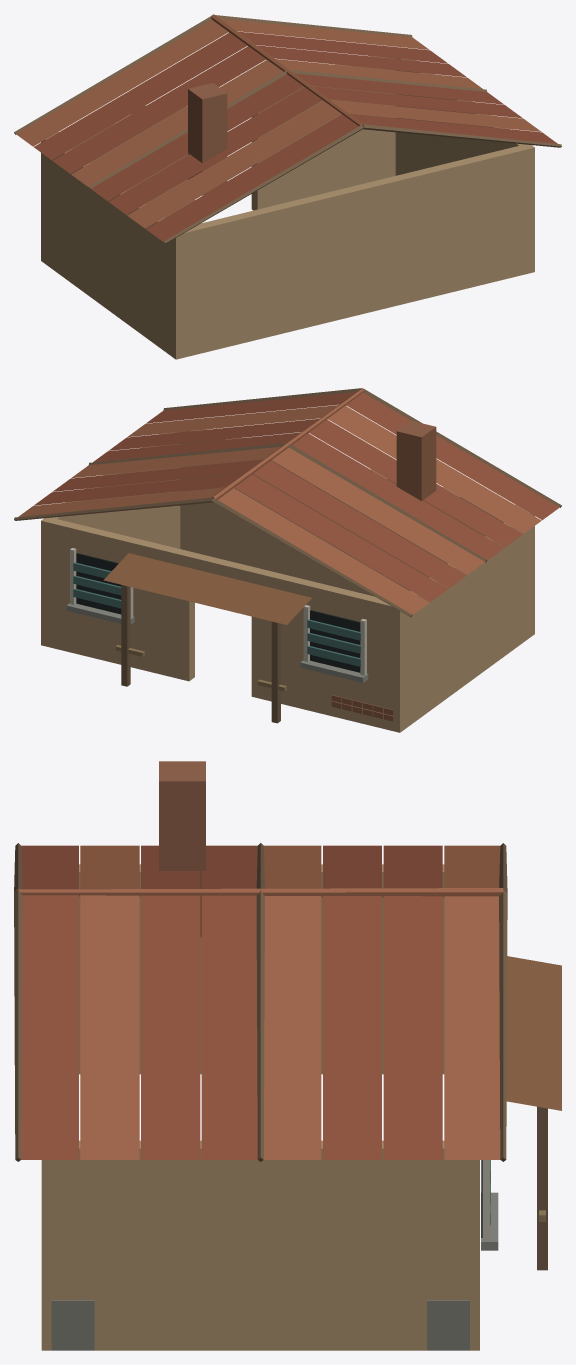
File: abandoned_a.glb
The picture shows the model from 3 angles, top to bottom: view 1: azimuth 30°, elevation 25°; view 2: azimuth 150°, elevation 25°; view 3: azimuth 270°, elevation 25°; orthographic projection. The views are drawn at different scales.
Visible parts, largest first — view 1: abandoned_a_visual; view 2: abandoned_a_visual; view 3: abandoned_a_visual.
Part boxes in pixels (x1,y1,x2,y2): abandoned_a_visual: [14, 14, 561, 359]; abandoned_a_visual: [14, 388, 561, 732]; abandoned_a_visual: [14, 761, 561, 1350].
Size of what is drawn, in the model's own units: 9.52 by 5 by 7.01.
